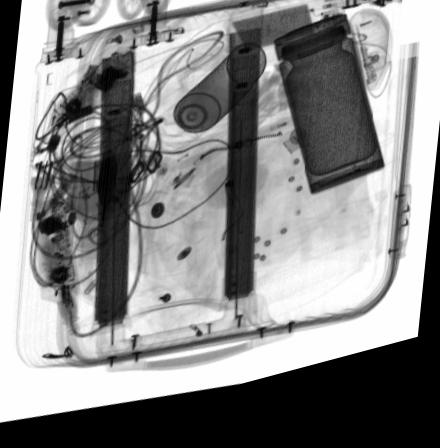Lighter: (96, 160, 119, 211)
Powerbank: (229, 11, 347, 66)
Sprayer: (150, 54, 267, 158)
